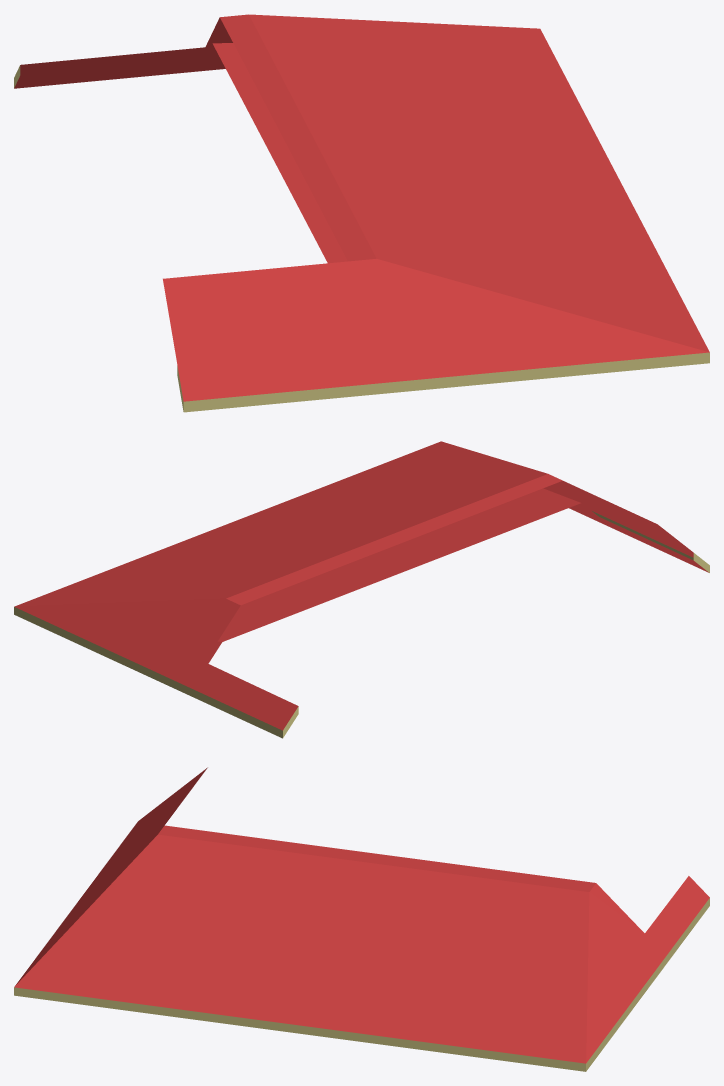
3 renders of one model, top to bottom at view 1: azimuth 30°, elevation 25°; view 2: azimuth 150°, elevation 25°; view 3: azimuth 270°, elevation 25°, orthographic. The views are drawn at different scales.
Bounding box in the file's own units: 6.3 × 7.65 × 0.871.
